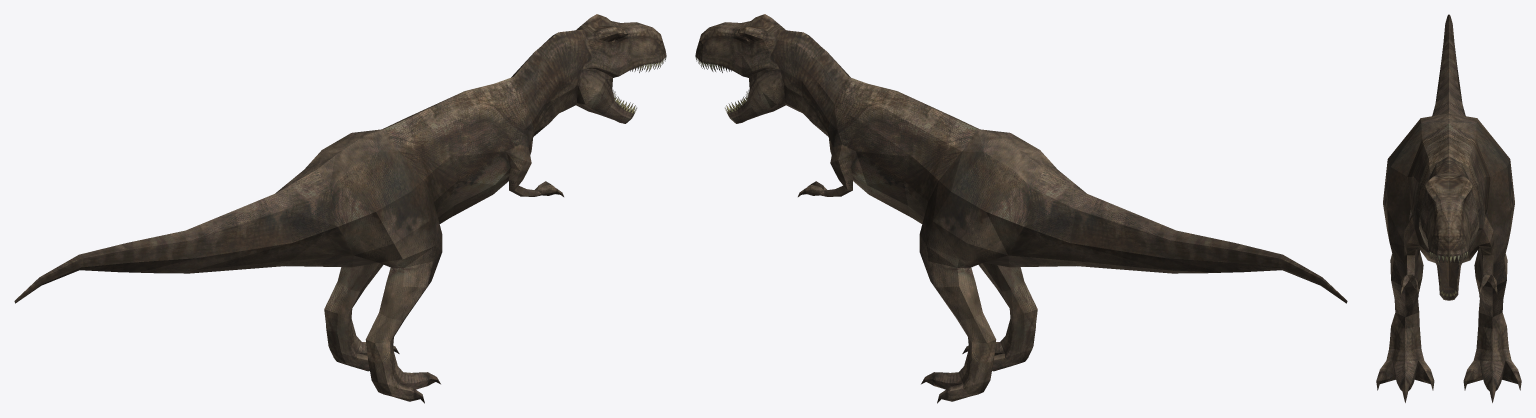
The model's file is trex.obj.
3 views of the same model, side by side, from view 1: azimuth 30°, elevation 25°; view 2: azimuth 150°, elevation 25°; view 3: azimuth 270°, elevation 25° (orthographic). The views are drawn at different scales.
Parts seen in each view (by area): view 1: sm_trex_toy_01; view 2: sm_trex_toy_01; view 3: sm_trex_toy_01.
Part boxes in pixels (x1,y1,x2,y2): sm_trex_toy_01: [14, 14, 666, 403]; sm_trex_toy_01: [695, 14, 1347, 403]; sm_trex_toy_01: [1376, 14, 1521, 402].
Bounding box in the file's own units: 86.17 × 38.69 × 15.87.
